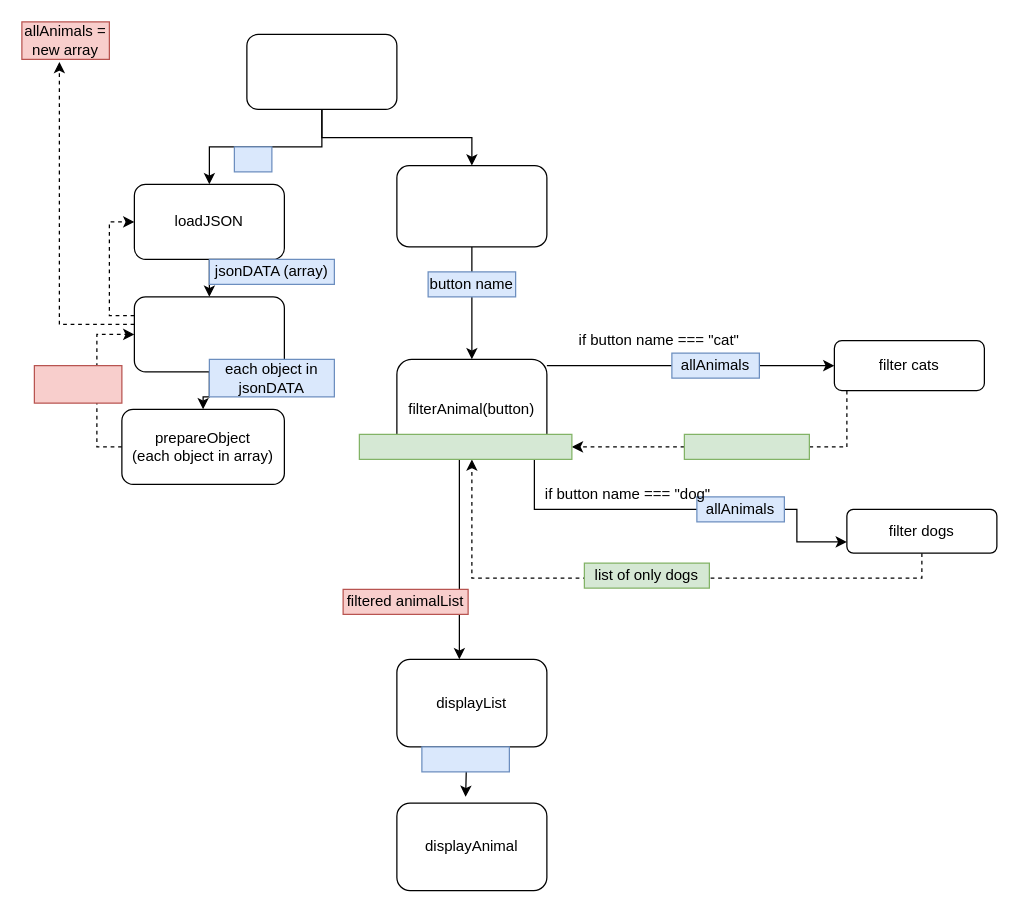
This 1019x913 diagram has some shape labels left out. The box of each missing label's shape, as (x1, y1, x2, y2) in pixels:
each animal: (421, 746, 509, 772)
filter clicked: (396, 164, 547, 247)
let filteredAnimals = allAnimals: (358, 433, 572, 459)
list of only cats: (683, 433, 809, 459)
prepareObjects(array): (133, 296, 284, 372)
refined each object: (33, 364, 122, 403)
start (when DOMcontentloaded): (246, 33, 397, 109)
url: (233, 146, 272, 172)
